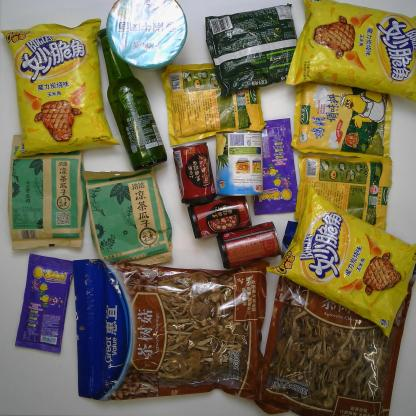Alcohol: (86, 23, 174, 181)
Candy: (10, 249, 74, 362), (246, 113, 298, 216)
Canned Food: (208, 121, 268, 204), (214, 213, 289, 276), (190, 189, 260, 245), (168, 137, 220, 209)
Dried Food: (70, 251, 288, 403), (254, 237, 416, 412), (1, 128, 93, 261), (76, 158, 178, 276)
Instant Noodles: (197, 5, 320, 99), (99, 2, 197, 74)
Puffed Food: (271, 188, 416, 338), (0, 15, 122, 165), (282, 0, 416, 102)
Seasoner: (155, 54, 277, 146), (285, 80, 409, 161), (292, 150, 402, 233)
